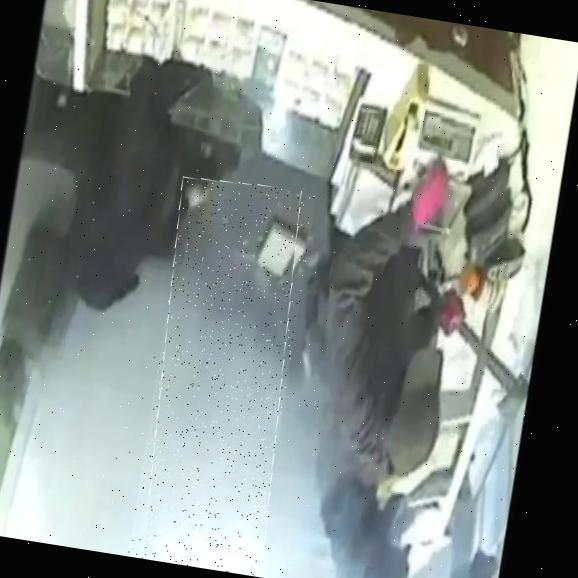smoke: (127, 173, 316, 577)
